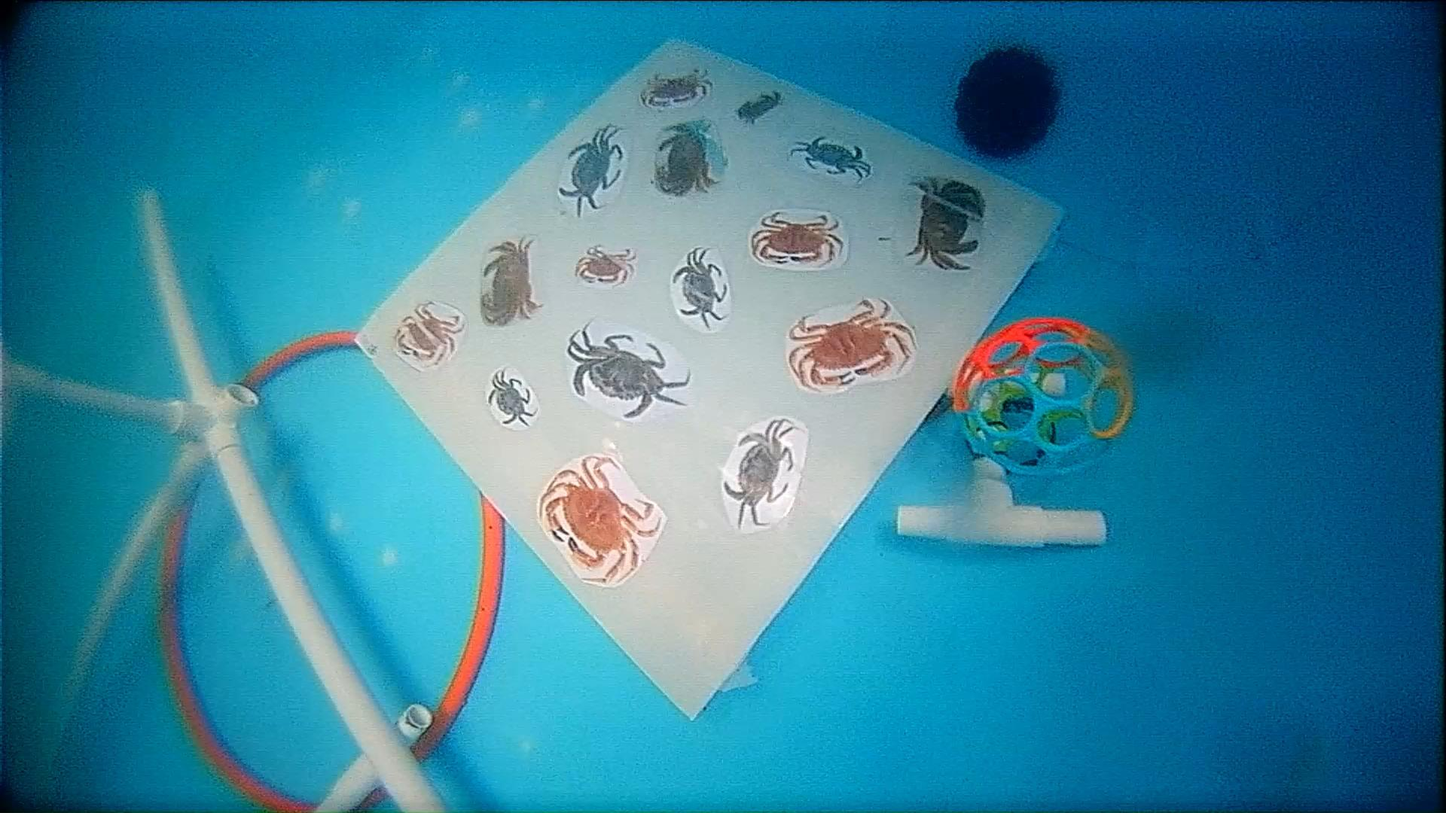GreenCrab: (567, 327, 690, 419), (724, 418, 798, 526), (558, 125, 623, 215), (673, 247, 726, 327), (789, 136, 871, 178), (489, 370, 535, 425)
